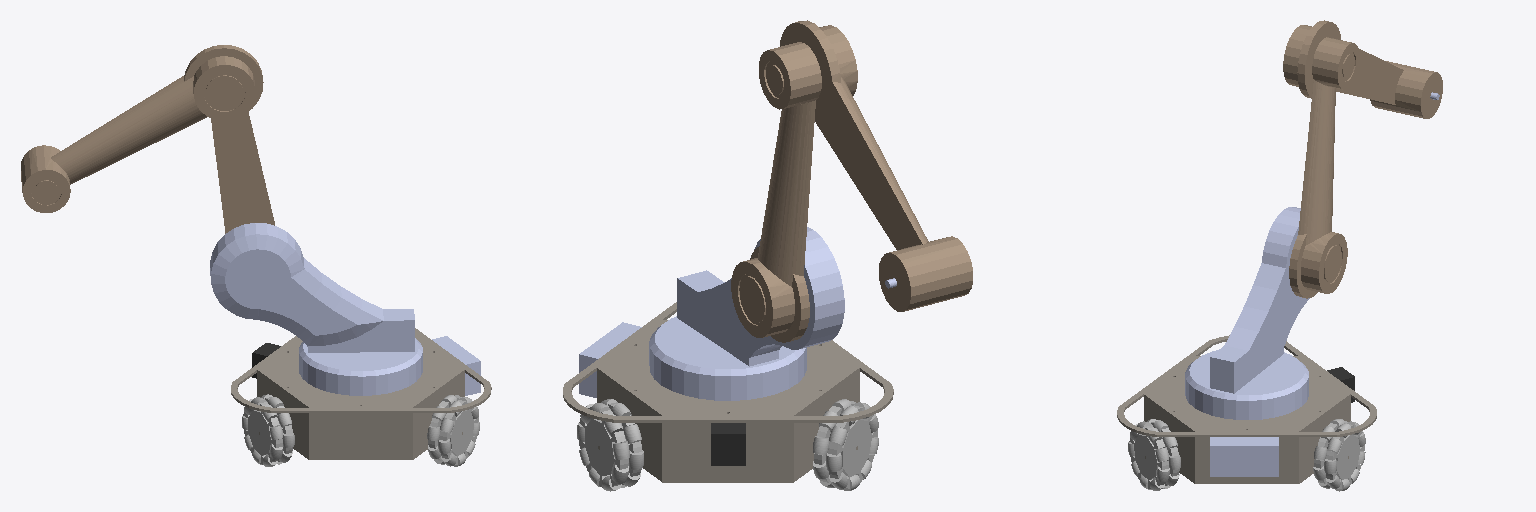
The robot description file, URDF, robot "robot_giua_ki":
<?xml version="1.0" encoding="utf-8"?>
<robot name="robot_giua_ki">
  <link name="base_link">
    <inertial>
      <origin xyz="0.129903810567668 0.0749999999999997 0.0270932977125576" rpy="0 0 0" />
      <mass value="8.0" />
      <inertia ixx="0.0258447207222559" ixy="2.887196504011E-17" ixz="1.403957110074E-17" iyy="0.0258447207222559" iyz="6.63778493939643E-18" izz="0.04641109346427" />
    </inertial>
    <visual>
      <origin xyz="0 0 0" rpy="0 0 0" />
      <geometry>
        <mesh filename="package://robot_giua_ki/meshes/base_link.STL" />
      </geometry>
      <material name="">
        <color rgba="0.647058823529412 0.619607843137255 0.588235294117647 1" />
      </material>
    </visual>
    <collision>
      <origin xyz="0 0 0" rpy="0 0 0" />
      <geometry>
        <mesh filename="package://robot_giua_ki/meshes/base_link.STL" />
      </geometry>
    </collision>
  </link>
  <link name="lidar">
    <inertial>
      <origin xyz="0.02 6.41847686111419E-17 -1.73472347597681E-18" rpy="0 0 0" />
      <mass value="0.2" />
      <inertia ixx="0.000208333333333333" ixy="5.03546777204473E-19" ixz="1.56637097196105E-22" iyy="6.83333333333334E-05" iyz="6.49708151861918E-21" izz="0.000193333333333333" />
    </inertial>
    <visual>
      <origin xyz="0 0 0" rpy="0 0 0" />
      <geometry>
        <mesh filename="package://robot_giua_ki/meshes/lidar.STL" />
      </geometry>
      <material name="">
        <color rgba="0.792156862745098 0.819607843137255 0.933333333333333 1" />
      </material>
    </visual>
    <collision>
      <origin xyz="0 0 0" rpy="0 0 0" />
      <geometry>
        <mesh filename="package://robot_giua_ki/meshes/lidar.STL" />
      </geometry>
    </collision>
  </link>
  <joint name="lidar_joint" type="fixed">
    <origin xyz="0.299807621135335 0.0712773119471236 0.055" rpy="3.14159265358979 0 3.14159265358979" />
    <parent link="base_link" />
    <child link="lidar" />
    <axis xyz="0 0 0" />
  </joint>
  <link name="gps">
    <inertial>
      <origin xyz="-0.0099999999999999 -0.0173205080756889 0" rpy="0 0 0" />
      <mass value="0.064" />
      <inertia ixx="1.70666666666667E-05" ixy="-1.03397576569128E-22" ixz="1.26829392577992E-21" iyy="1.70666666666667E-05" iyz="-1.55254875478038E-22" izz="1.70666666666667E-05" />
    </inertial>
    <visual>
      <origin xyz="0 0 0" rpy="0 0 0" />
      <geometry>
        <mesh filename="package://robot_giua_ki/meshes/gps.STL" />
      </geometry>
      <material name="">
        <color rgba="0.250980392156863 0.250980392156863 0.250980392156863 1" />
      </material>
    </visual>
    <collision>
      <origin xyz="0 0 0" rpy="0 0 0" />
      <geometry>
        <mesh filename="package://robot_giua_ki/meshes/gps.STL" />
      </geometry>
    </collision>
  </link>
  <joint name="gps_joint" type="fixed">
    <origin xyz="0.0449042894945412 0.222113525162613 0.0600000000000001" rpy="3.14159265358979 0 3.14159265358979" />
    <parent link="base_link" />
    <child link="gps" />
    <axis xyz="0 0 0" />
  </joint>
  <link name="omni_1">
    <inertial>
      <origin xyz="0.0075000000000012 -0.0129903810567663 1.69309011255336E-15" rpy="0 0 0" />
      <mass value="0.208733977688543" />
      <inertia ixx="6.59898939608469E-05" ixy="-1.46534832472991E-05" ixz="-1.74485478411936E-19" iyy="8.29102789556346E-05" iyz="5.76409229329002E-19" izz="5.75297014634531E-05" />
    </inertial>
    <visual>
      <origin xyz="0 0 0" rpy="0 0 0" />
      <geometry>
        <mesh filename="package://robot_giua_ki/meshes/omni_1.STL" />
      </geometry>
      <material name="">
        <color rgba="0.752941176470588 0.752941176470588 0.752941176470588 1" />
      </material>
    </visual>
    <collision>
      <origin xyz="0 0 0" rpy="0 0 0" />
      <geometry>
        <mesh filename="package://robot_giua_ki/meshes/omni_1.STL" />
      </geometry>
    </collision>
  </link>
  <joint name="omni_1_joint" type="continuous">
    <origin xyz="0.214855715851501 0.222141016151378 0.0225" rpy="3.14159265358979 0 3.14159265358979" />
    <parent link="base_link" />
    <child link="omni_1" />
    <axis xyz="0.500000000000001 -0.866025403784438 0" />
  </joint>
  <link name="omni_2">
    <inertial>
      <origin xyz="0.00750000000000212 0.0129903810567651 6.17561557447743E-16" rpy="0 0 0" />
      <mass value="0.208733977688543" />
      <inertia ixx="6.59898939608472E-05" ixy="1.46534832472992E-05" ixz="1.93863838622215E-19" iyy="8.29102789556345E-05" iyz="4.26515003347655E-19" izz="5.75297014634533E-05" />
    </inertial>
    <visual>
      <origin xyz="0 0 0" rpy="0 0 0" />
      <geometry>
        <mesh filename="package://robot_giua_ki/meshes/omni_2.STL" />
      </geometry>
      <material name="">
        <color rgba="0.752941176470588 0.752941176470588 0.752941176470588 1" />
      </material>
    </visual>
    <collision>
      <origin xyz="0 0 0" rpy="0 0 0" />
      <geometry>
        <mesh filename="package://robot_giua_ki/meshes/omni_2.STL" />
      </geometry>
    </collision>
  </link>
  <joint name="omni_2_joint" type="continuous">
    <origin xyz="0.2148557158515 -0.0721410161513798 0.0224999999999992" rpy="3.14159265358979 0 3.14159265358979" />
    <parent link="base_link" />
    <child link="omni_2" />
    <axis xyz="0.499999999999995 0.866025403784442 0" />
  </joint>
  <link name="omni_3">
    <inertial>
      <origin xyz="-0.0149999999999986 -1.03476255342017E-15 -3.81639164714898E-16" rpy="0 0 0" />
      <mass value="0.208733977688544" />
      <inertia ixx="9.13704714530289E-05" ixy="-4.89821367467156E-20" ixz="-3.91156779464444E-19" iyy="5.75297014634538E-05" iyz="-1.76685778841327E-21" izz="5.75297014634537E-05" />
    </inertial>
    <visual>
      <origin xyz="0 0 0" rpy="0 0 0" />
      <geometry>
        <mesh filename="package://robot_giua_ki/meshes/omni_3.STL" />
      </geometry>
      <material name="">
        <color rgba="0.752941176470588 0.752941176470588 0.752941176470588 1" />
      </material>
    </visual>
    <collision>
      <origin xyz="0 0 0" rpy="0 0 0" />
      <geometry>
        <mesh filename="package://robot_giua_ki/meshes/omni_3.STL" />
      </geometry>
    </collision>
  </link>
  <joint name="omni_3_joint" type="continuous">
    <origin xyz="-0.0399999999999992 0.075000000000003 0.0224999999999998" rpy="3.14159265358979 0 3.14159265358979" />
    <parent link="base_link" />
    <child link="omni_3" />
    <axis xyz="-1 0 0" />
  </joint>
  <link name="cover">
    <inertial>
      <origin xyz="-1.46410661372443E-15 7.1730815731641E-16 0.0020000000000005" rpy="0 0 0" />
      <mass value="2.2681122370942" />
      <inertia ixx="0.0134967660959291" ixy="-4.53351516696916E-17" ixz="1.12538519924289E-18" iyy="0.0134967660959296" iyz="-2.22480767533846E-18" izz="0.026952981665401" />
    </inertial>
    <visual>
      <origin xyz="0 0 0" rpy="0 0 0" />
      <geometry>
        <mesh filename="package://robot_giua_ki/meshes/cover.STL" />
      </geometry>
      <material name="">
        <color rgba="0.647058823529412 0.619607843137255 0.588235294117647 1" />
      </material>
    </visual>
    <collision>
      <origin xyz="0 0 0" rpy="0 0 0" />
      <geometry>
        <mesh filename="package://robot_giua_ki/meshes/cover.STL" />
      </geometry>
    </collision>
  </link>
  <joint name="cover_joint" type="fixed">
    <origin xyz="0.129903810567662 0.0749999999999939 0.0839999999999991" rpy="3.14159265358979 0 3.14159265358979" />
    <parent link="base_link" />
    <child link="cover" />
    <axis xyz="0 0 0" />
  </joint>
  <link name="part_1">
    <inertial>
      <origin xyz="0.0482497027294832 0.023818397092888 -0.0791522181889356" rpy="0 0 0" />
      <mass value="0.5" />
      <inertia ixx="0.0133979236376902" ixy="-0.00449290071182854" ixz="0.00756296397167591" iyy="0.020021289311462" iyz="0.00378435160377516" izz="0.0153316672251995" />
    </inertial>
    <visual>
      <origin xyz="0 0 0" rpy="0 0 0" />
      <geometry>
        <mesh filename="package://robot_giua_ki/meshes/part_1.STL" />
      </geometry>
      <material name="">
        <color rgba="0.792156862745098 0.819607843137255 0.933333333333333 1" />
      </material>
    </visual>
    <collision>
      <origin xyz="0 0 0" rpy="0 0 0" />
      <geometry>
        <mesh filename="package://robot_giua_ki/meshes/part_1.STL" />
      </geometry>
    </collision>
  </link>
  <joint name="part_1_joint" type="continuous">
    <origin xyz="0 0 0" rpy="0 0 0" />
    <parent link="cover" />
    <child link="part_1" />
    <axis xyz="0 0 1" />
  </joint>
  <link name="part_2">
    <inertial>
      <origin xyz="0.0292458953416969 -0.0145511531922431 -0.116439924114356" rpy="0 0 0" />
      <mass value="0.2" />
      <inertia ixx="0.0117771528786844" ixy="-0.000203932658126824" ixz="0.00164444589160438" iyy="0.0120712247911824" iyz="0.000823263798463536" izz="0.000738512080665884" />
    </inertial>
    <visual>
      <origin xyz="0 0 0" rpy="0 0 0" />
      <geometry>
        <mesh filename="package://robot_giua_ki/meshes/part_2.STL" />
      </geometry>
      <material name="">
        <color rgba="0.686274509803922 0.607843137254902 0.529411764705882 1" />
      </material>
    </visual>
    <collision>
      <origin xyz="0 0 0" rpy="0 0 0" />
      <geometry>
        <mesh filename="package://robot_giua_ki/meshes/part_2.STL" />
      </geometry>
    </collision>
  </link>
  <joint name="part_2_joint" type="revolute">
    <origin xyz="0.103632634514604 0.124917080751846 -0.159999999999999" rpy="0 0 0" />
    <parent link="part_1" />
    <child link="part_2" />
    <axis xyz="0.467367855028524 -0.884062943509135 0" />
    <limit lower="-1.57" upper="1.57" effort="10" velocity="1" />
  </joint>
  <link name="part_3">
    <inertial>
      <origin xyz="0.100191636008583 0.0894075603169047 0.0774484945955882" rpy="0 0 0" />
      <mass value="0.2" />
      <inertia ixx="0.00768759284894696" ixy="-0.0050590989736399" ixz="-0.00560651201979539" iyy="0.0126503410778878" iyz="-0.00350049610218649" izz="0.011771041029143" />
    </inertial>
    <visual>
      <origin xyz="0 0 0" rpy="0 0 0" />
      <geometry>
        <mesh filename="package://robot_giua_ki/meshes/part_3.STL" />
      </geometry>
      <material name="">
        <color rgba="0.686274509803922 0.607843137254902 0.529411764705882 1" />
      </material>
    </visual>
    <collision>
      <origin xyz="0 0 0" rpy="0 0 0" />
      <geometry>
        <mesh filename="package://robot_giua_ki/meshes/part_3.STL" />
      </geometry>
    </collision>
  </link>
  <joint name="part_3_joint" type="revolute">
    <origin xyz="0.0820900774167607 -0.0516181986063883 -0.296062123147055" rpy="0 0 0" />
    <parent link="part_2" />
    <child link="part_3" />
    <axis xyz="0.467367855028522 -0.884062943509136 0" />
    <limit lower="-1.57" upper="1.57" effort="10" velocity="1" />
  </joint>
  <link name="camera">
    <inertial>
      <origin xyz="0.00233683927514272 -0.00442031471754573 -5.55111512312578E-17" rpy="0 0 0" />
      <mass value="0.000785398163397446" />
      <inertia ixx="1.10963135271228E-08" ixy="6.76068450955425E-10" ixz="9.94242979616765E-25" iyy="1.0174886731558E-08" iyz="-1.42850375477502E-24" izz="1.14537232162127E-08" />
    </inertial>
    <visual>
      <origin xyz="0 0 0" rpy="0 0 0" />
      <geometry>
        <mesh filename="package://robot_giua_ki/meshes/camera.STL" />
      </geometry>
      <material name="">
        <color rgba="0.792156862745098 0.819607843137255 0.933333333333333 1" />
      </material>
    </visual>
    <collision>
      <origin xyz="0 0 0" rpy="0 0 0" />
      <geometry>
        <mesh filename="package://robot_giua_ki/meshes/camera.STL" />
      </geometry>
    </collision>
  </link>
  <joint name="camera_joint" type="fixed">
    <origin xyz="0.18408219437092 0.203643984462763 0.153228174001123" rpy="0 0 0" />
    <parent link="part_3" />
    <child link="camera" />
    <axis xyz="0 0 0" />
  </joint>
  <!-- Thêm Gazebo ROS Control plugin -->
  <gazebo>
    <plugin name="gazebo_ros_control" filename="libgazebo_ros_control.so">
      <robotNamespace>/robot_giua_ki</robotNamespace>
    </plugin>
  </gazebo>

  <!-- Định nghĩa các khớp trong Gazebo để sử dụng position controllers -->
  <gazebo reference="part_1_joint">
    <kp>1000.0</kp>
    <kd>10.0</kd>
  </gazebo>
  <gazebo reference="part_2_joint">
    <kp>1000.0</kp>
    <kd>10.0</kd>
  </gazebo>
  <gazebo reference="part_3_joint">
    <kp>1000.0</kp>
    <kd>10.0</kd>
  </gazebo>

  <!-- Plugin Gazebo cho LiDAR -->
  <gazebo reference="lidar">
    <sensor name="lidar_sensor" type="ray">
      <pose>0 0 0 0 0 0</pose>
      <visualize>true</visualize>
      <update_rate>10</update_rate>
      <ray>
        <scan>
          <horizontal>
            <samples>360</samples>
            <resolution>1</resolution>
            <min_angle>-3.14159</min_angle>
            <max_angle>3.14159</max_angle>
          </horizontal>
        </scan>
        <range>
          <min>0.1</min>
          <max>10.0</max>
          <resolution>0.01</resolution>
        </range>
        <noise>
          <type>gaussian</type>
          <mean>0.0</mean>
          <stddev>0.01</stddev>
        </noise>
      </ray>
      <plugin name="lidar_controller" filename="libgazebo_ros_laser.so">
        <topicName>/robot_giua_ki/lidar/scan</topicName>
        <frameName>lidar</frameName>
      </plugin>
    </sensor>
  </gazebo>

  <!-- Plugin Gazebo cho Camera -->
  <gazebo reference="camera">
    <sensor name="camera_sensor" type="camera">
      <pose>0 0 0 0 0 0</pose>
      <visualize>true</visualize>
      <update_rate>10</update_rate>
      <camera>
        <horizontal_fov>1.0472</horizontal_fov> <!-- Góc nhìn ngang (khoảng 60 độ) -->
        <image>
          <width>640</width>
          <height>480</height>
          <format>R8G8B8</format>
        </image>
        <clip>
          <near>0.1</near>
          <far>100.0</far>
        </clip>
      </camera>
      <plugin name="camera_controller" filename="libgazebo_ros_camera.so">
        <alwaysOn>true</alwaysOn>
        <updateRate>10</updateRate>
        <cameraName>camera1</cameraName>
        <imageTopicName>/robot_giua_ki/camera/image_raw</imageTopicName>
        <cameraInfoTopicName>/robot_giua_ki/camera/camera_info</cameraInfoTopicName>
        <frameName>camera</frameName>
      </plugin>
    </sensor>
  </gazebo>

  <!-- Plugin Gazebo cho GPS -->
  <gazebo reference="gps">
    <sensor name="gps_sensor" type="gps">
      <pose>0 0 0 0 0 0</pose>
      <update_rate>10</update_rate>
      <gps>
        <referenceLatitude>37.7749</referenceLatitude> <!-- Vĩ độ tham chiếu (ví dụ: San Francisco) -->
        <referenceLongitude>-122.4194</referenceLongitude> <!-- Kinh độ tham chiếu -->
        <referenceAltitude>0.0</referenceAltitude> <!-- Độ cao tham chiếu -->
        <noise>
          <type>gaussian</type>
          <mean>0.0</mean>
          <stddev>0.01</stddev> <!-- Độ lệch chuẩn của nhiễu (0.01 m) -->
        </noise>
      </gps>
      <plugin name="gps_controller" filename="libgazebo_ros_gps.so">
        <topicName>/robot_giua_ki/gps/fix</topicName>
        <frameName>gps</frameName>
      </plugin>
    </sensor>
  </gazebo>

  <!-- Transmission cho part_1_joint -->
  <transmission name="part_1_trans">
    <type>transmission_interface/SimpleTransmission</type>
    <joint name="part_1_joint">
      <hardwareInterface>hardware_interface/PositionJointInterface</hardwareInterface>
    </joint>
    <actuator name="part_1_motor">
      <mechanicalReduction>1</mechanicalReduction>
    </actuator>
  </transmission>

  <!-- Transmission cho part_2_joint -->
  <transmission name="part_2_trans">
    <type>transmission_interface/SimpleTransmission</type>
    <joint name="part_2_joint">
      <hardwareInterface>hardware_interface/PositionJointInterface</hardwareInterface>
    </joint>
    <actuator name="part_2_motor">
      <mechanicalReduction>1</mechanicalReduction>
    </actuator>
  </transmission>

  <!-- Transmission cho part_3_joint -->
  <transmission name="part_3_trans">
    <type>transmission_interface/SimpleTransmission</type>
    <joint name="part_3_joint">
      <hardwareInterface>hardware_interface/PositionJointInterface</hardwareInterface>
    </joint>
    <actuator name="part_3_motor">
      <mechanicalReduction>1</mechanicalReduction>
    </actuator>
  </transmission>
</robot>

--- Facts derived from the render (not from the file) ---
The picture shows the robot from 3 angles, left to right: view 1: azimuth 30°, elevation 25°; view 2: azimuth 150°, elevation 25°; view 3: azimuth 270°, elevation 25°; orthographic projection.
Model robot_giua_ki with 11 links and 10 joints (2 revolute, 4 continuous, 4 fixed), rooted at base_link, posed all joints at 0.
Visible links, largest first — view 1: part_1, part_3, base_link, cover, part_2, omni_2, omni_3, lidar; view 2: part_1, part_2, part_3, cover, base_link, omni_3, omni_1, gps, lidar; view 3: part_1, part_2, cover, part_3, base_link, lidar, omni_1, omni_2.
Link boxes in pixels (x1,y1,x2,y2): part_1: [210, 223, 422, 395]; part_3: [21, 45, 263, 212]; base_link: [257, 372, 464, 459]; cover: [231, 328, 491, 412]; part_2: [211, 112, 274, 233]; omni_2: [427, 395, 479, 466]; omni_3: [242, 394, 294, 466]; lidar: [432, 336, 480, 395]; part_1: [649, 227, 844, 400]; part_2: [731, 42, 821, 342]; part_3: [780, 20, 972, 311]; cover: [563, 302, 893, 422]; base_link: [597, 371, 859, 482]; omni_3: [813, 399, 878, 490]; omni_1: [577, 399, 643, 491]; gps: [711, 423, 745, 465]; lidar: [579, 322, 641, 397]; part_1: [1185, 207, 1309, 419]; part_2: [1289, 37, 1359, 298]; cover: [1117, 335, 1376, 436]; part_3: [1283, 20, 1442, 118]; base_link: [1144, 397, 1350, 483]; lidar: [1210, 437, 1278, 476]; omni_1: [1313, 419, 1365, 491]; omni_2: [1128, 419, 1180, 490].
Bounding box of the posed robot: 0.6144 × 0.4733 × 0.6268 m (x, y, z).
11 mesh visuals loaded from 11 distinct referenced files (11 binary STL).
